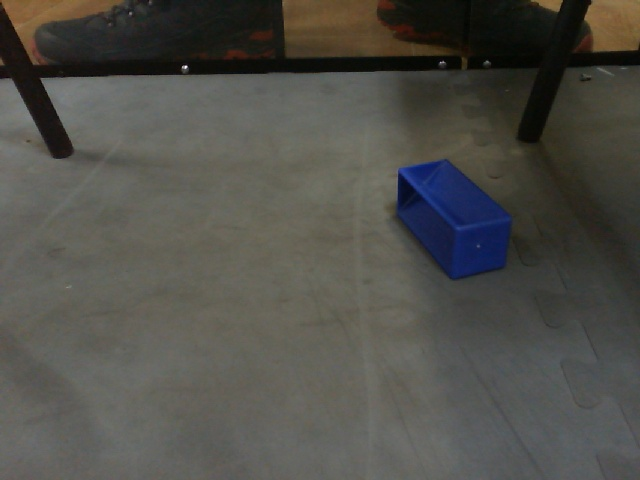BlueSample: (390, 154, 516, 290)
